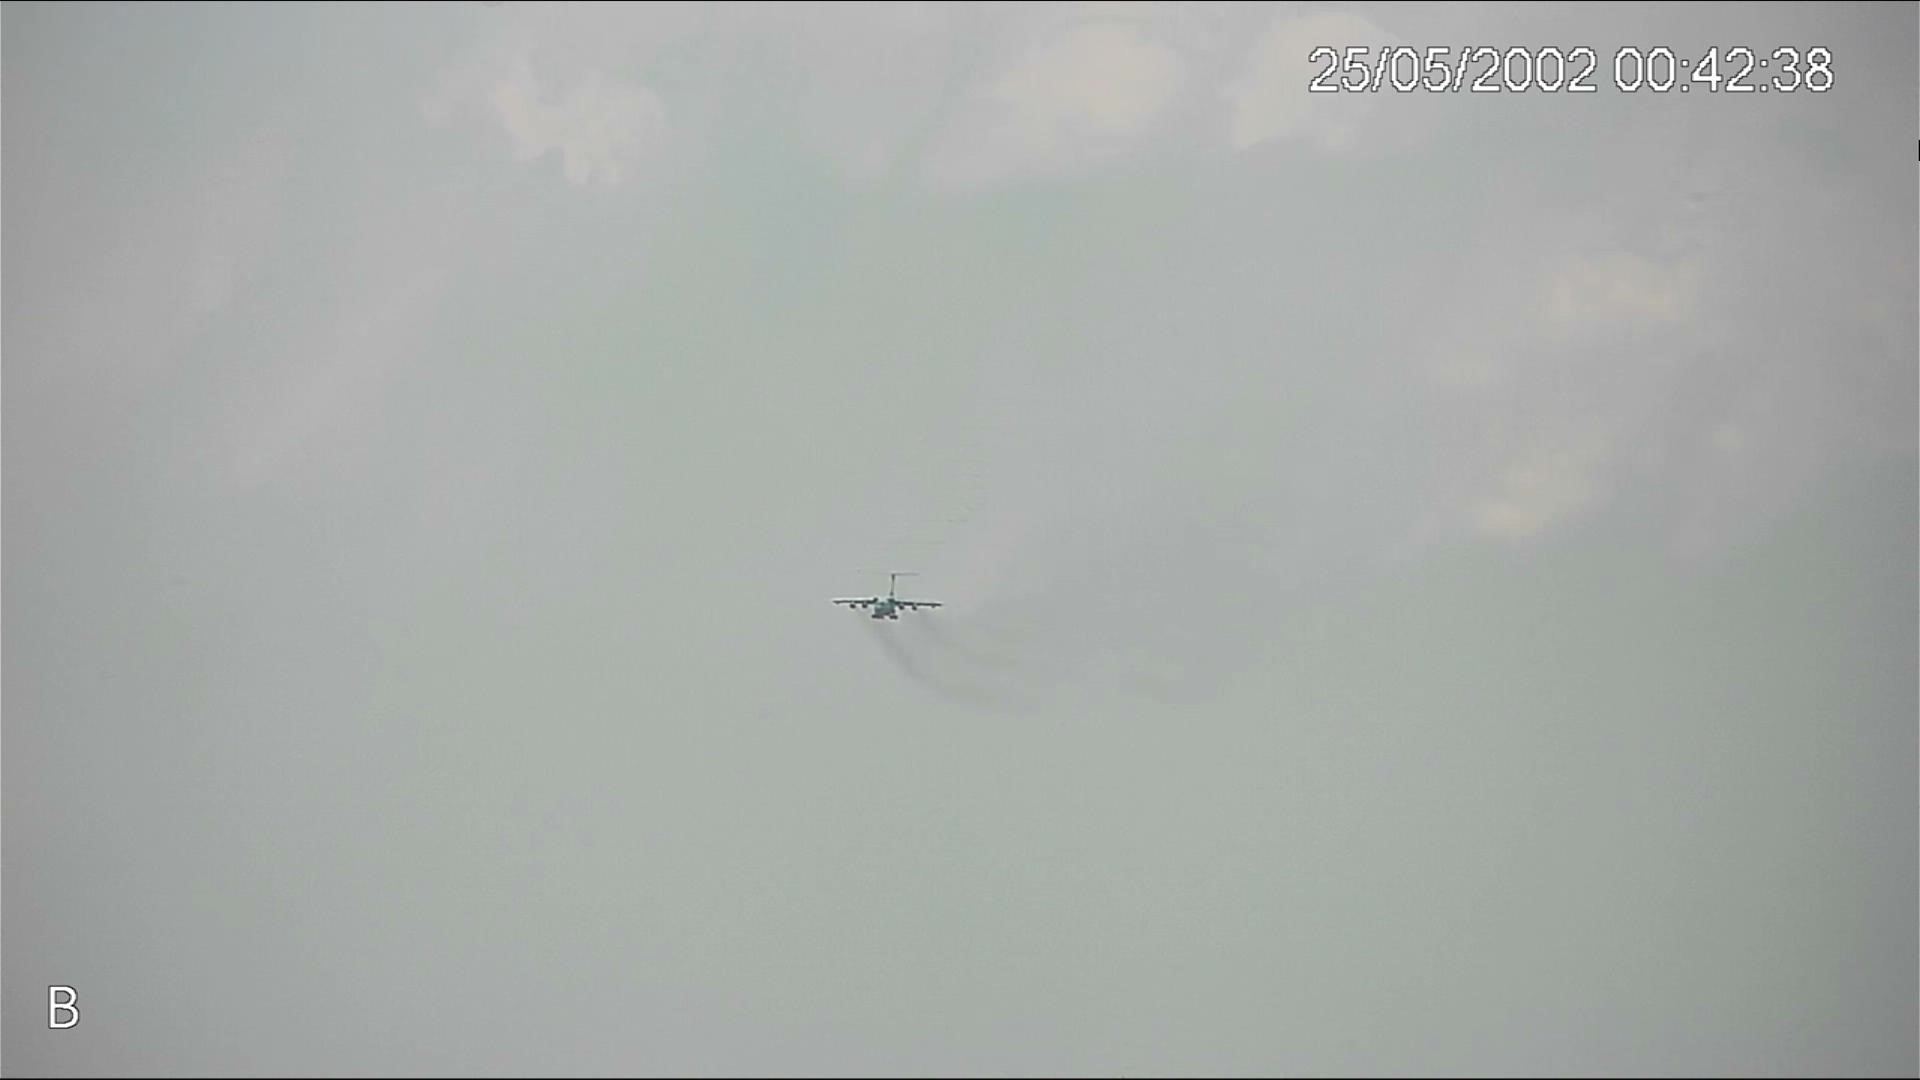SU_30: (828, 567, 945, 618)
